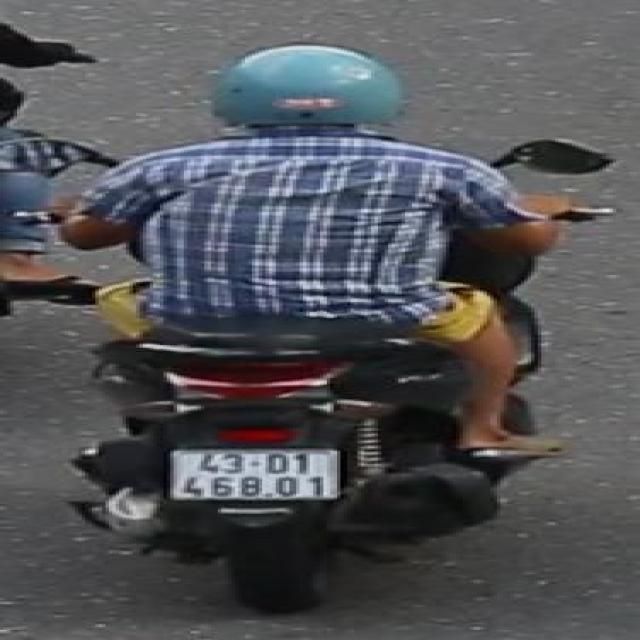LP: (165, 444, 349, 505)
helmet: (204, 37, 416, 143)
